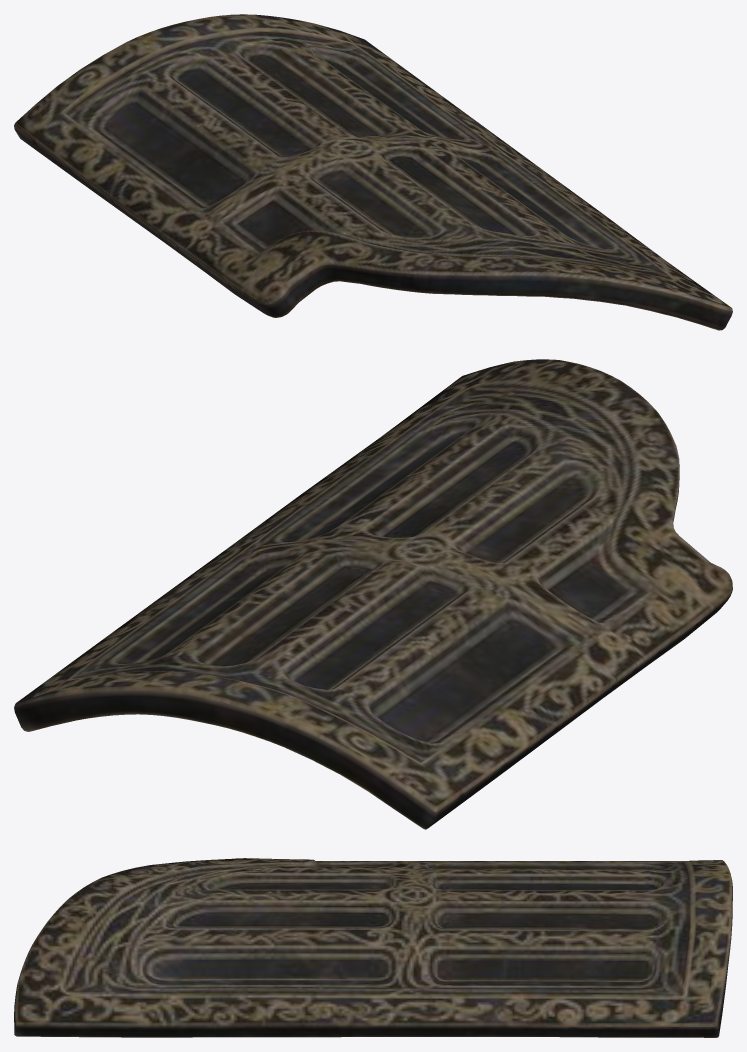
Rendered from weapon-wp_a_2229.glb.
The picture shows the model from 3 angles, top to bottom: view 1: azimuth 30°, elevation 25°; view 2: azimuth 150°, elevation 25°; view 3: azimuth 270°, elevation 25°; orthographic projection. The views are drawn at different scales.
Visible parts, largest first — view 1: wp_a_2229_mesh; view 2: wp_a_2229_mesh; view 3: wp_a_2229_mesh.
Boxes of the visible parts, <box> form: wp_a_2229_mesh: <box>14,14,732,330</box>; wp_a_2229_mesh: <box>14,359,732,829</box>; wp_a_2229_mesh: <box>14,858,732,1037</box>.
Size of the model in its own units: 0.7637 by 0.1806 by 1.43.
Materials: 1 (1 with a texture image).
